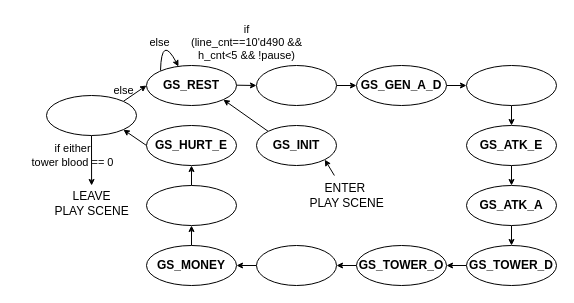
Some shapes in this 574 by 303 pixel diagram are drawn without their labels. The centre of each missing label's shape, as x and y in pixels:
"GS_FINISH" goes at [91,115].
"GS_GEN_A_G" goes at [511,85].
"GS_GEN_E" goes at [296,85].
"GS_HURT_A" goes at [191,205].
"GS_PURSE" goes at [296,265].
